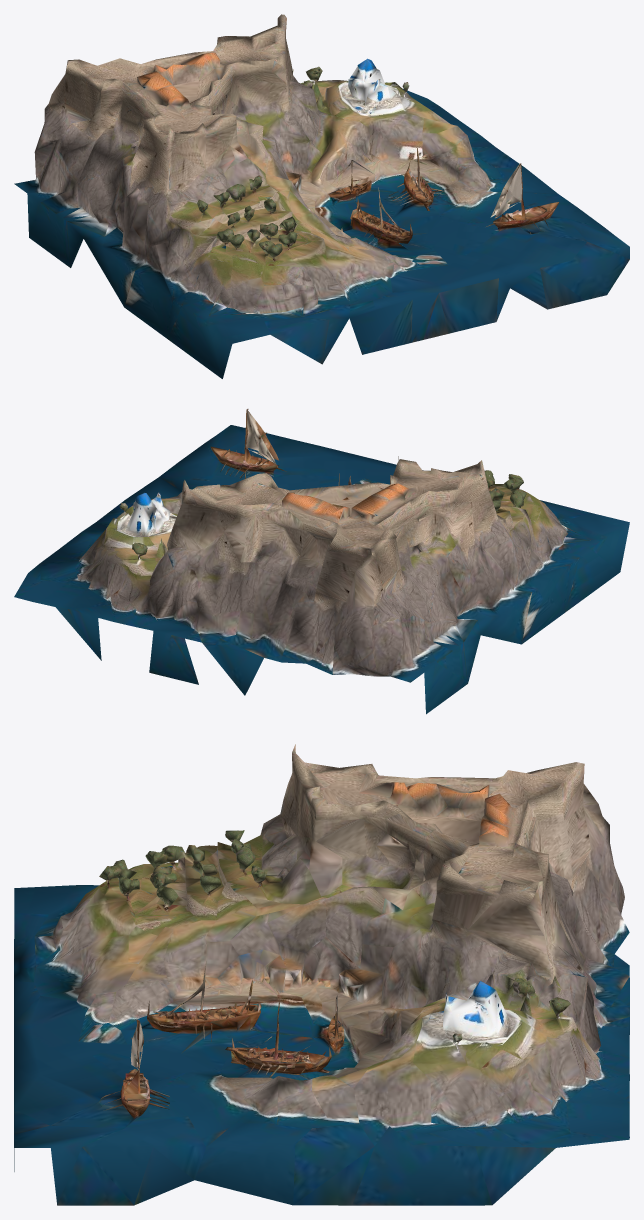
The model's file is m_gramvousa_animated.glb.
3 renders of one model, top to bottom at view 1: azimuth 30°, elevation 25°; view 2: azimuth 150°, elevation 25°; view 3: azimuth 270°, elevation 25°, orthographic. The views are drawn at different scales.
Parts seen in each view (by area): view 1: m_gramvousa_Living_Scenery; view 2: m_gramvousa_Living_Scenery; view 3: m_gramvousa_Living_Scenery.
Part boxes in pixels (x1,y1,x2,y2): m_gramvousa_Living_Scenery: [14, 14, 629, 378]; m_gramvousa_Living_Scenery: [14, 409, 629, 714]; m_gramvousa_Living_Scenery: [14, 744, 629, 1205].
Bounding box in the file's own units: 0.9361 × 0.3853 × 0.9362.
1 material, 1 textured.
